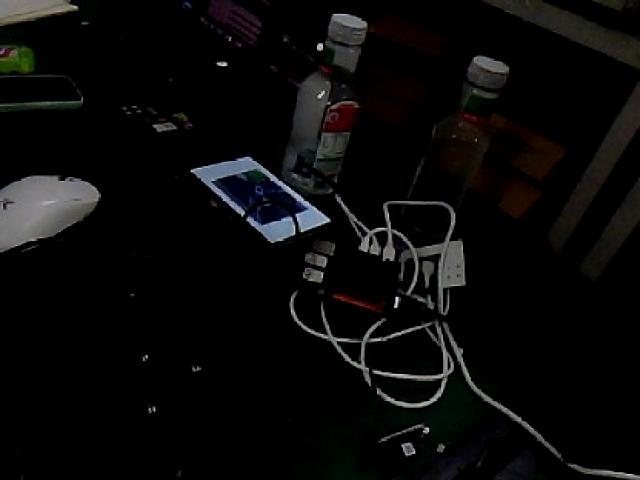steel-ball: (182, 349, 216, 389), (126, 331, 156, 371), (136, 388, 170, 421)
